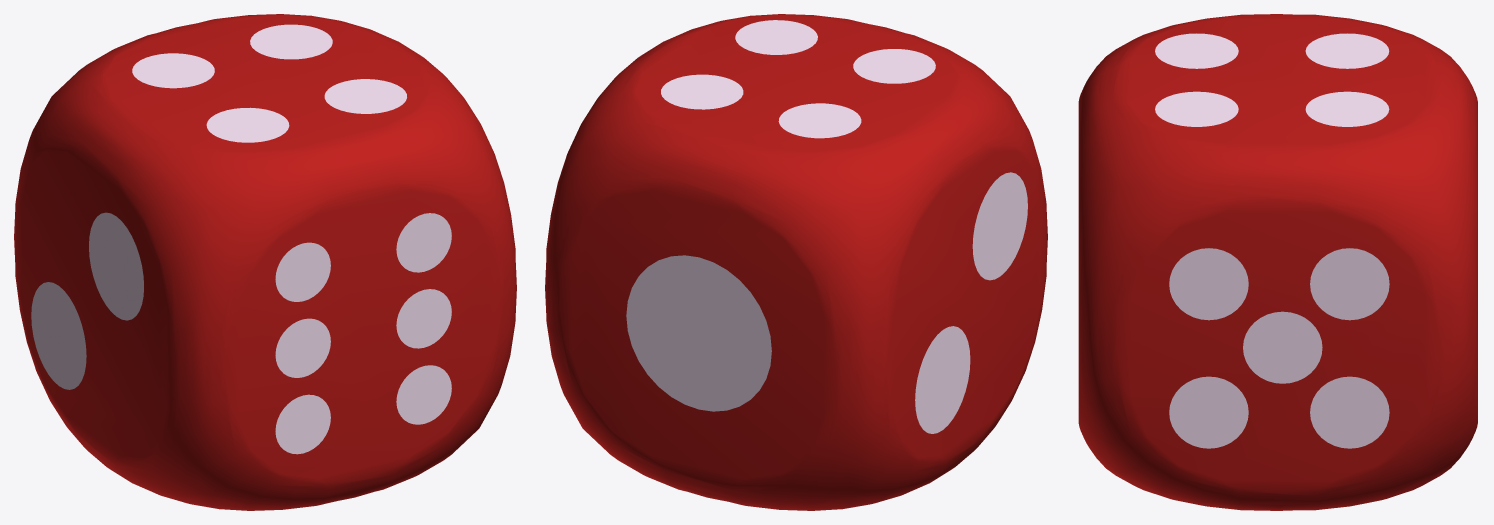
File: RedDice.fbx
3 views of the same model, side by side, from view 1: azimuth 30°, elevation 25°; view 2: azimuth 150°, elevation 25°; view 3: azimuth 270°, elevation 25° (orthographic).
Parts seen in each view (by area): view 1: Dice; view 2: Dice; view 3: Dice.
Part boxes in pixels (left/top/right/bottom): Dice: left=14, top=14, right=516, bottom=510; Dice: left=545, top=14, right=1047, bottom=510; Dice: left=1078, top=14, right=1477, bottom=510.
Bounding box in the file's own units: 125 × 124 × 125.
